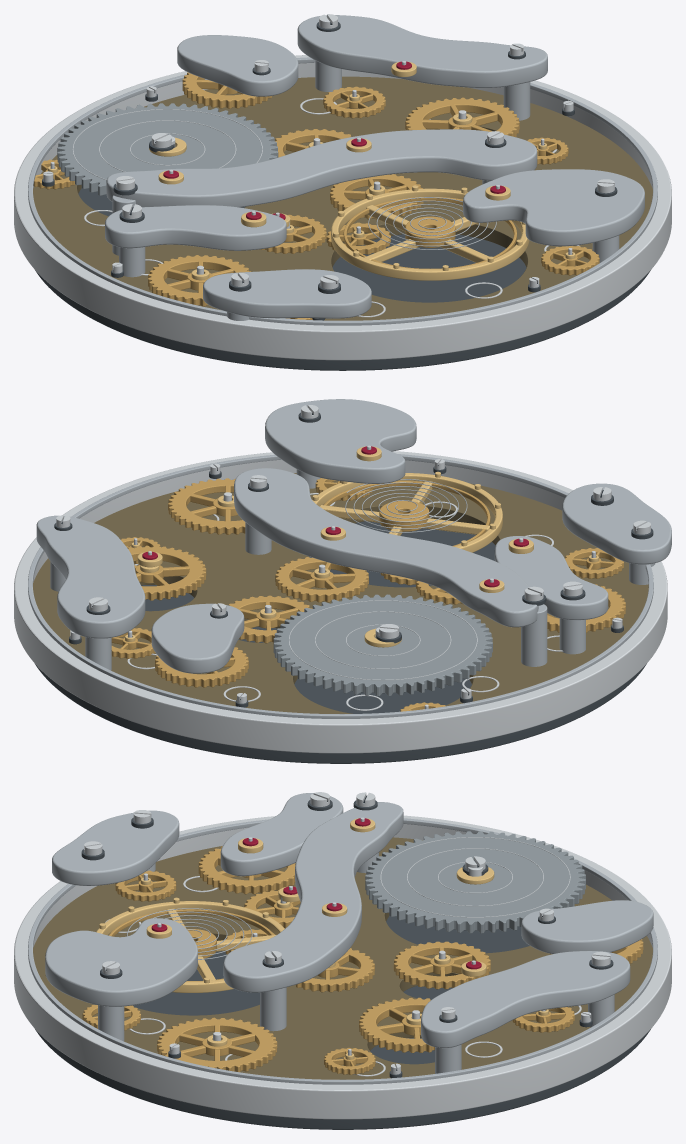
The model's file is movement-precision.glb.
The picture shows the model from 3 angles, top to bottom: view 1: azimuth 30°, elevation 25°; view 2: azimuth 150°, elevation 25°; view 3: azimuth 270°, elevation 25°; orthographic projection.
Parts seen in each view (by area): view 1: Movement_web_optimized; view 2: Movement_web_optimized; view 3: Movement_web_optimized.
Part boxes in pixels (x1,y1,x2,y2): Movement_web_optimized: (14, 14, 671, 370); Movement_web_optimized: (14, 399, 671, 763); Movement_web_optimized: (14, 792, 671, 1129).
Size of the model in its own units: 1.94 by 0.334 by 1.94.
